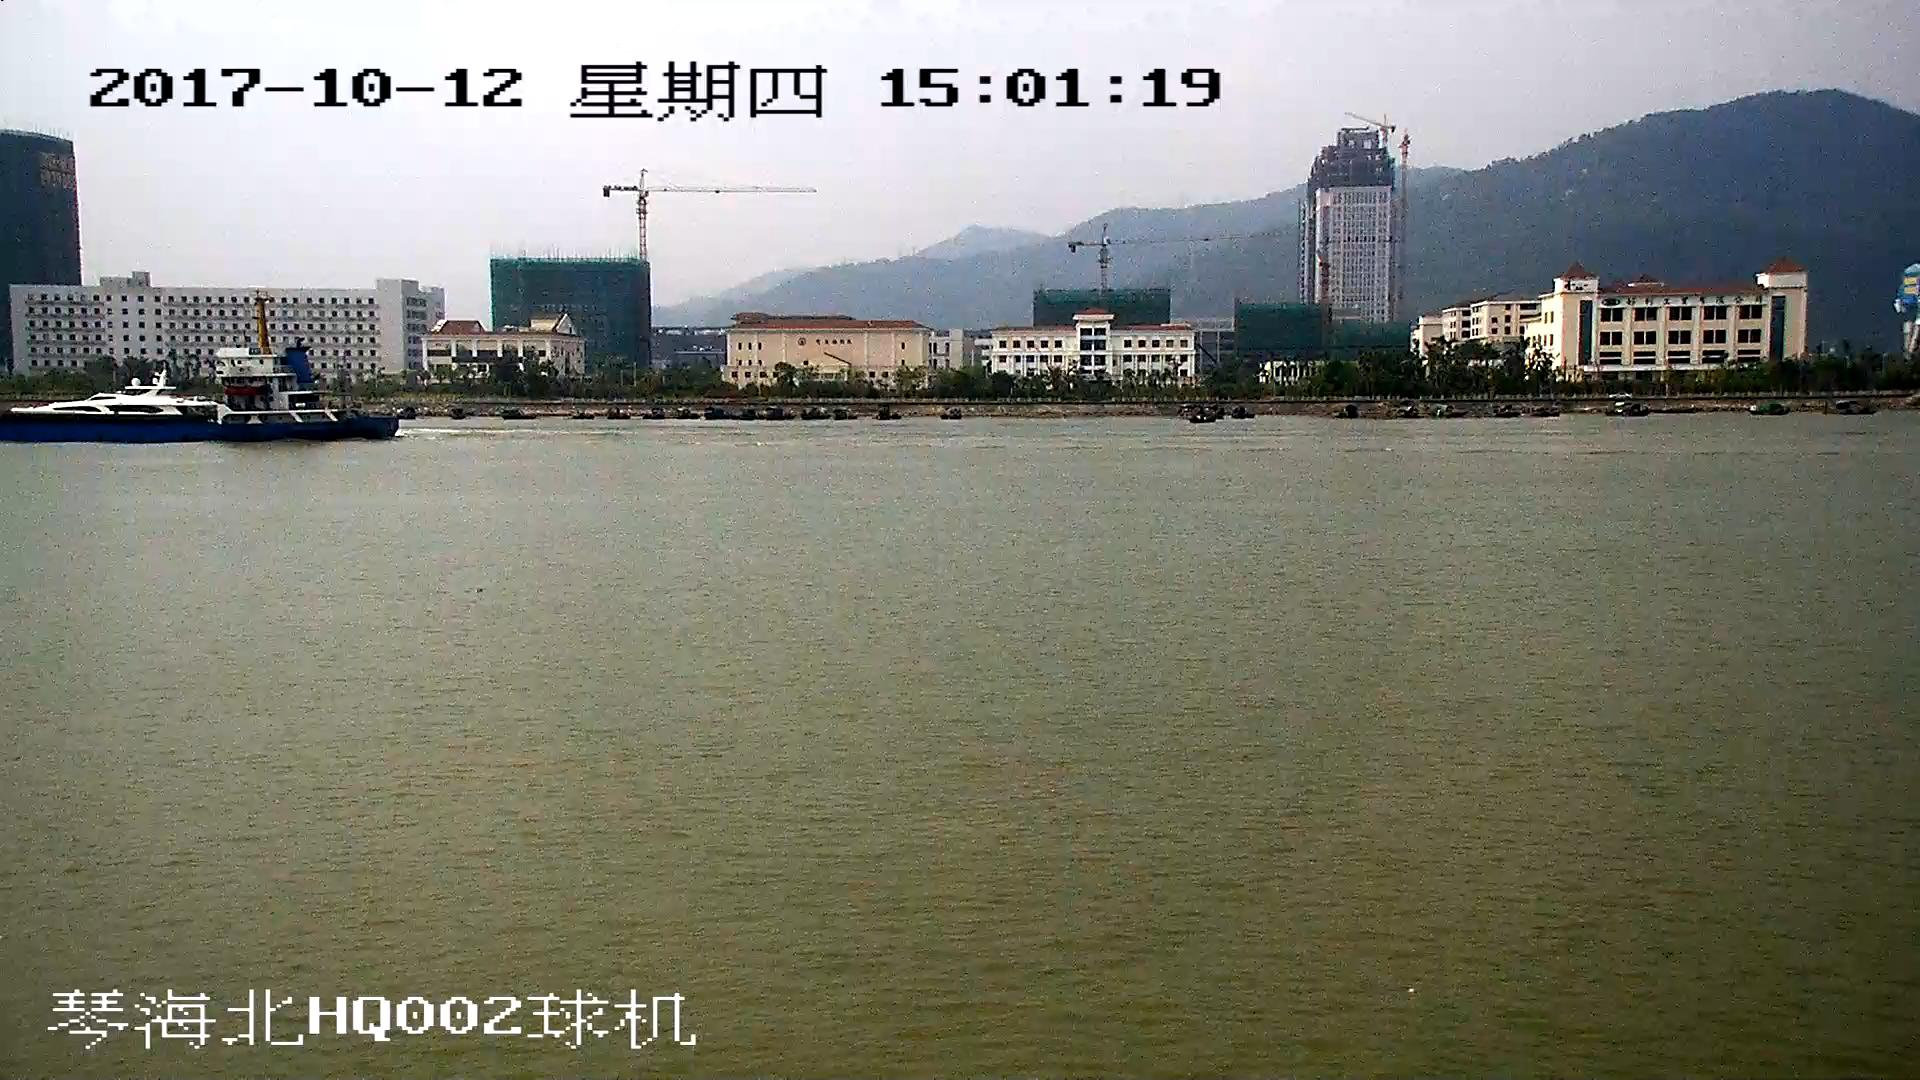general cargo ship: (1, 299, 397, 442)
